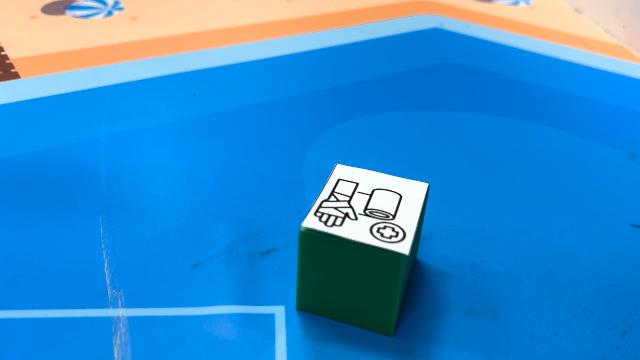bandage: (295, 162, 429, 336)
